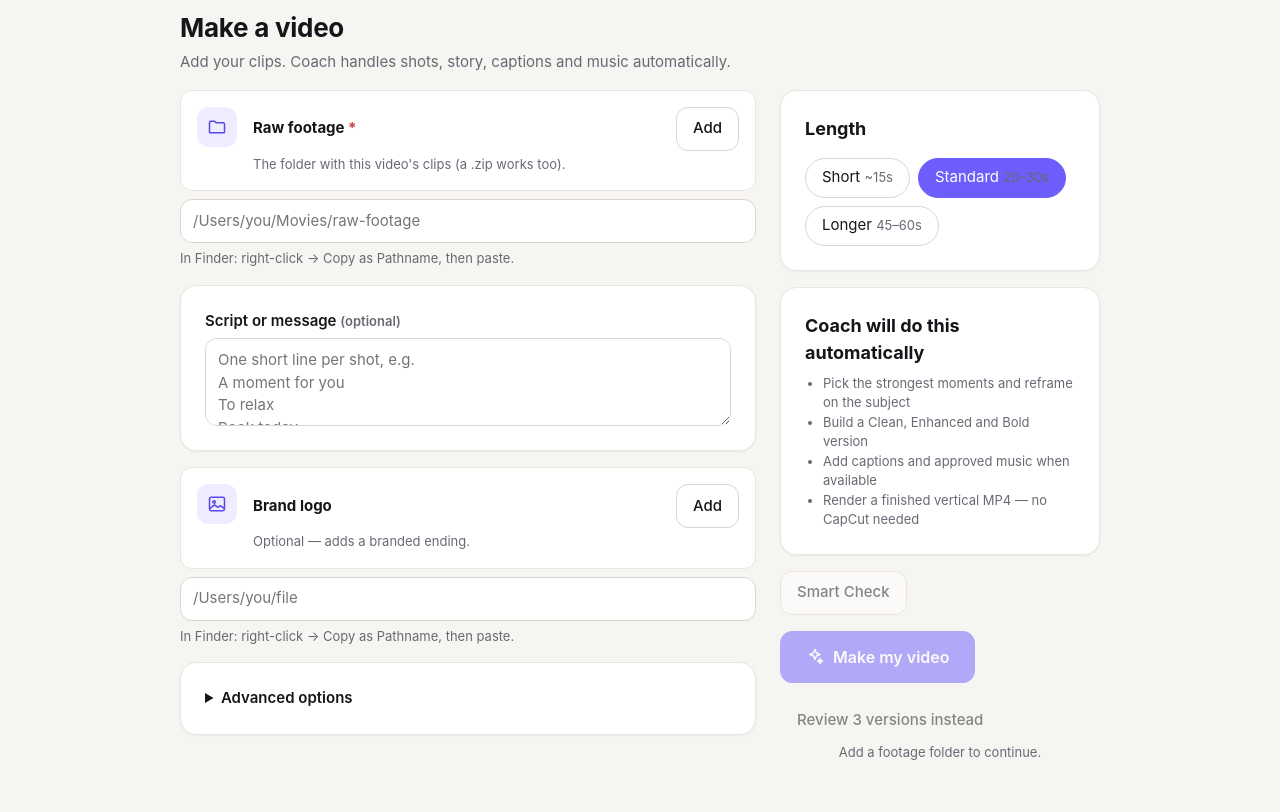
CreateFlow › shows a safe, plain-language error when the render fails
Type "/Users/me/Movies/raw" into the field named "Raw footage path" at (468, 221), box top-left (180, 199), bottom-right (756, 243)
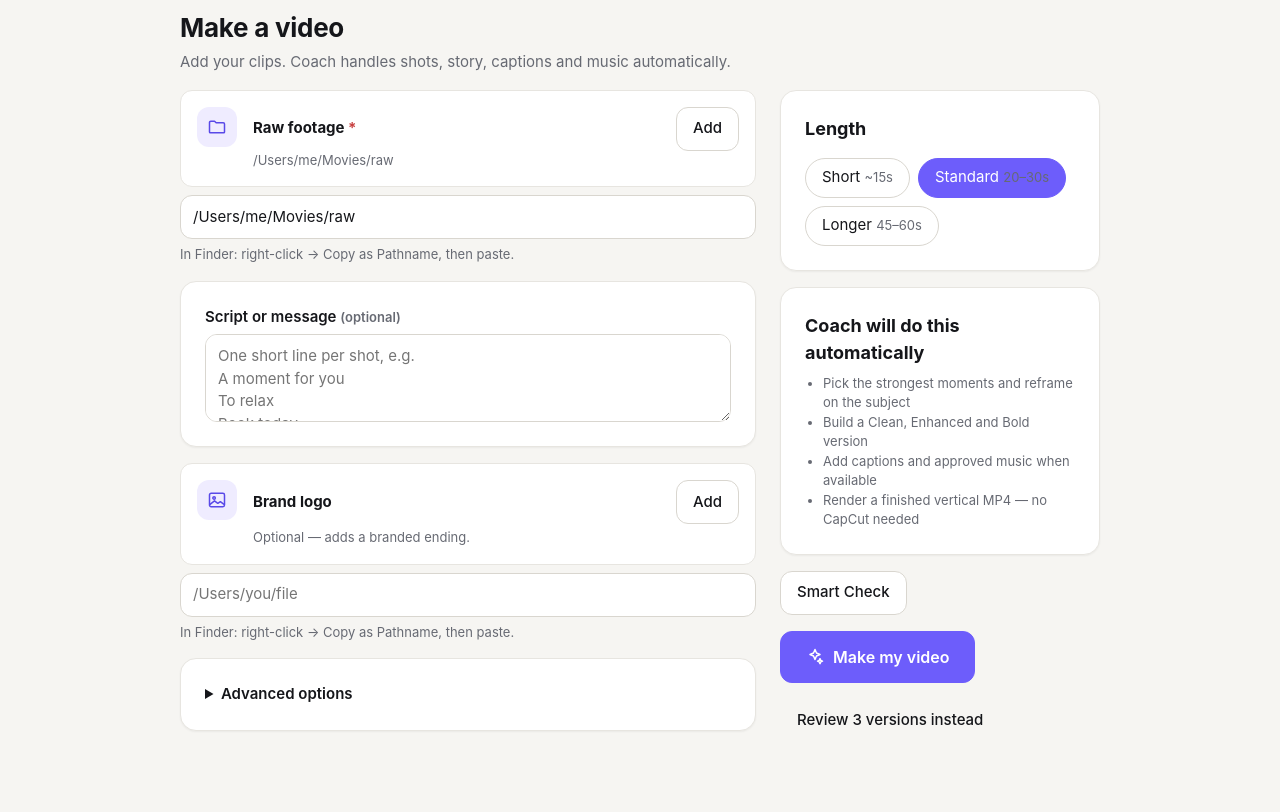
Click the button "Make my video" at (877, 657), box top-left (780, 631), bottom-right (974, 683)
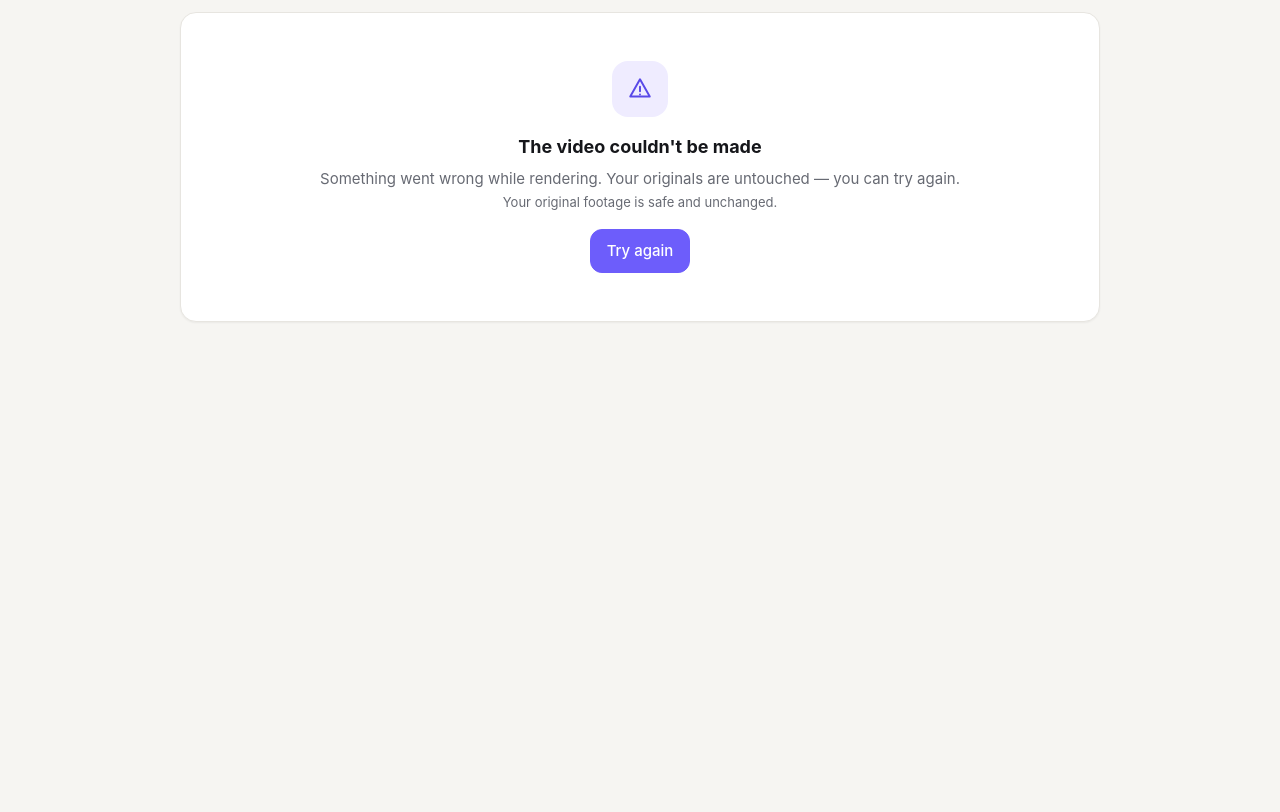
Check: the heading "The video couldn't be made" is shown, box top-left (518, 136), bottom-right (762, 157)
Check: the text "Your original footage is safe and unchanged." is shown, box top-left (503, 194), bottom-right (777, 210)
